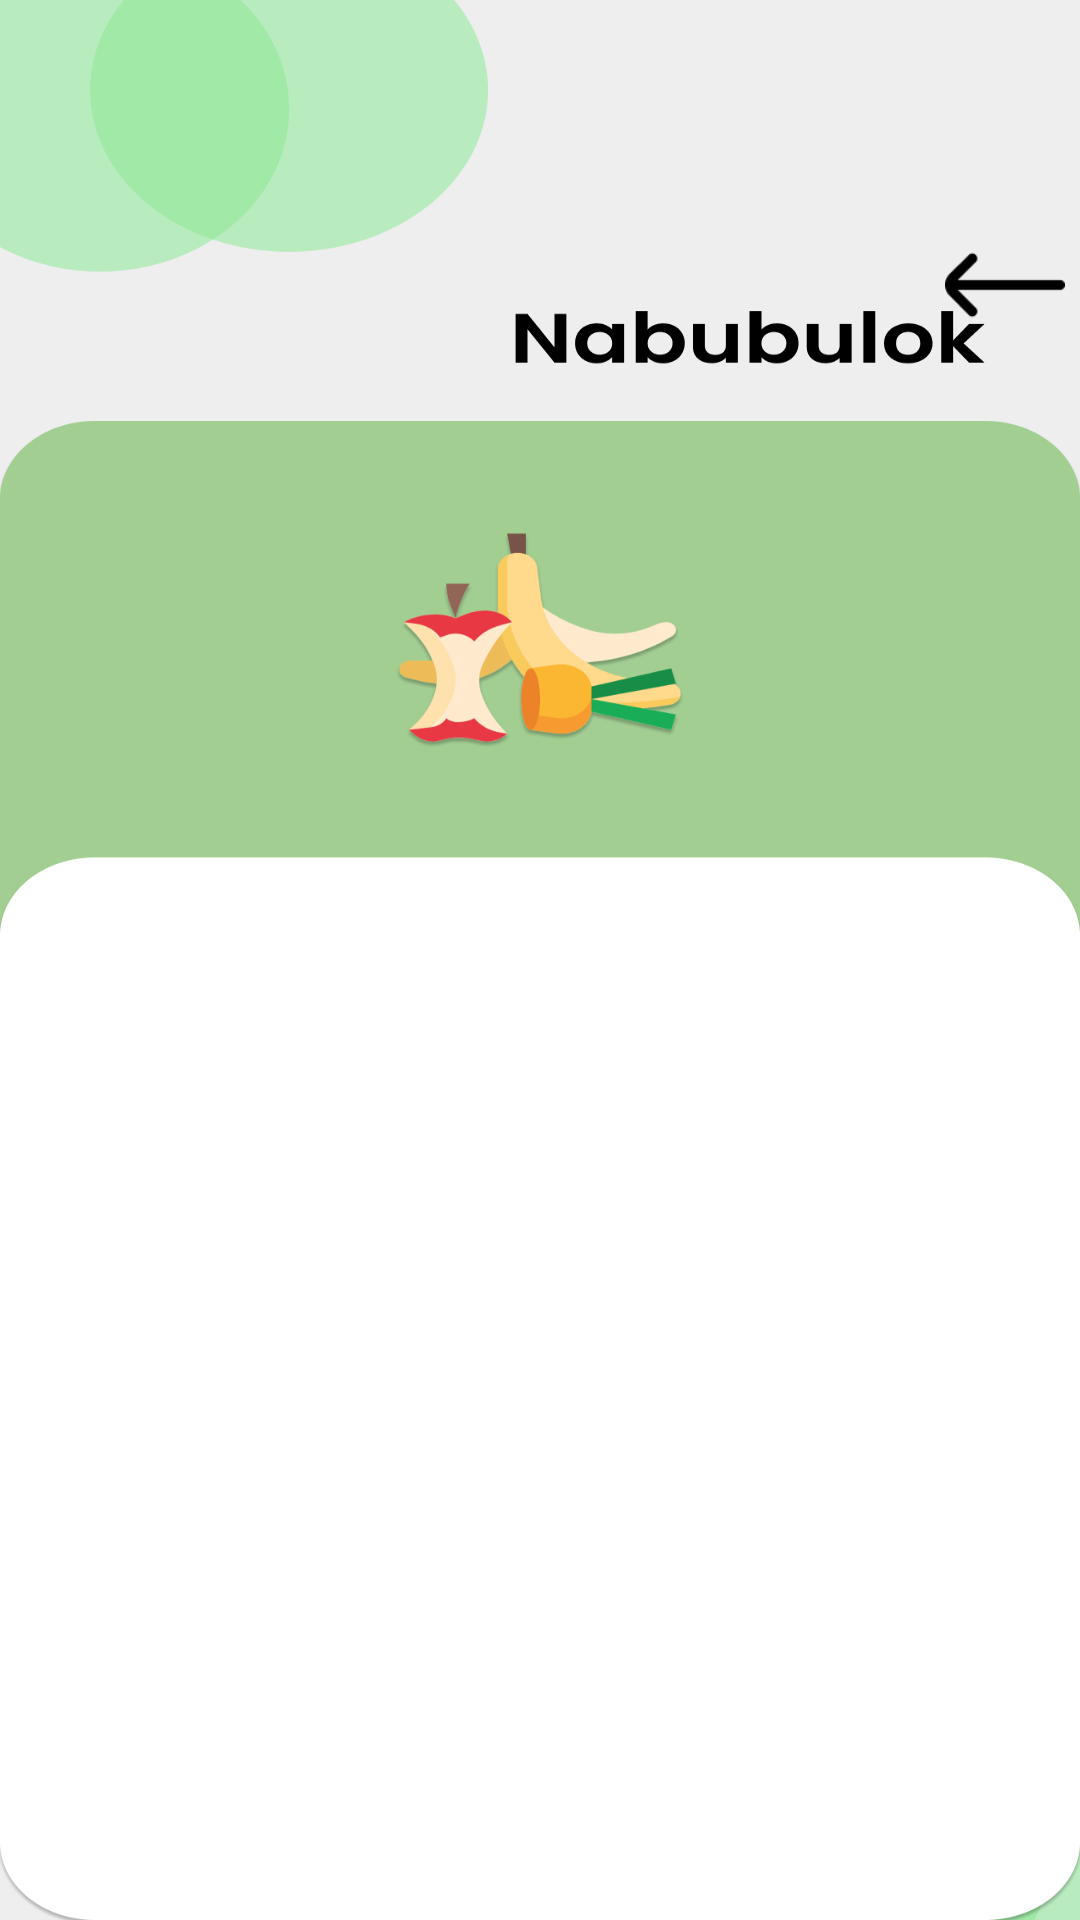

Where to tap for icons on this 1080×1920 app screen, as (x,y):
Back: (1005,285)
